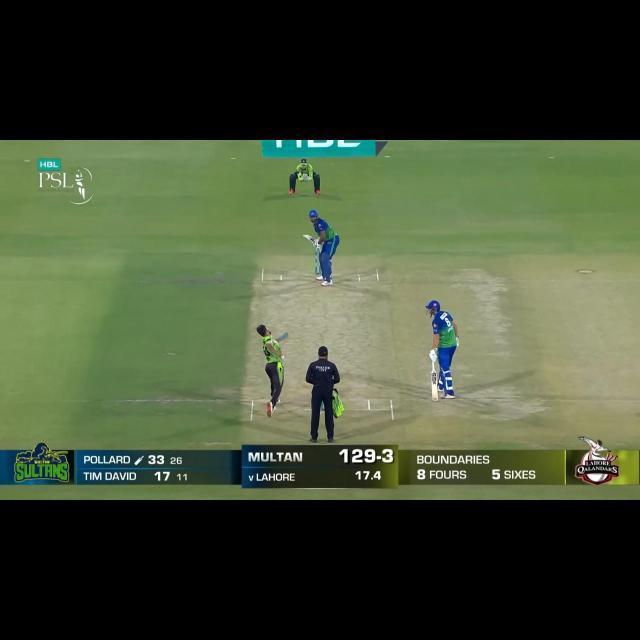bat: (431, 372, 438, 402), (300, 232, 316, 244)
toe: (300, 232, 313, 240), (431, 394, 438, 402)
